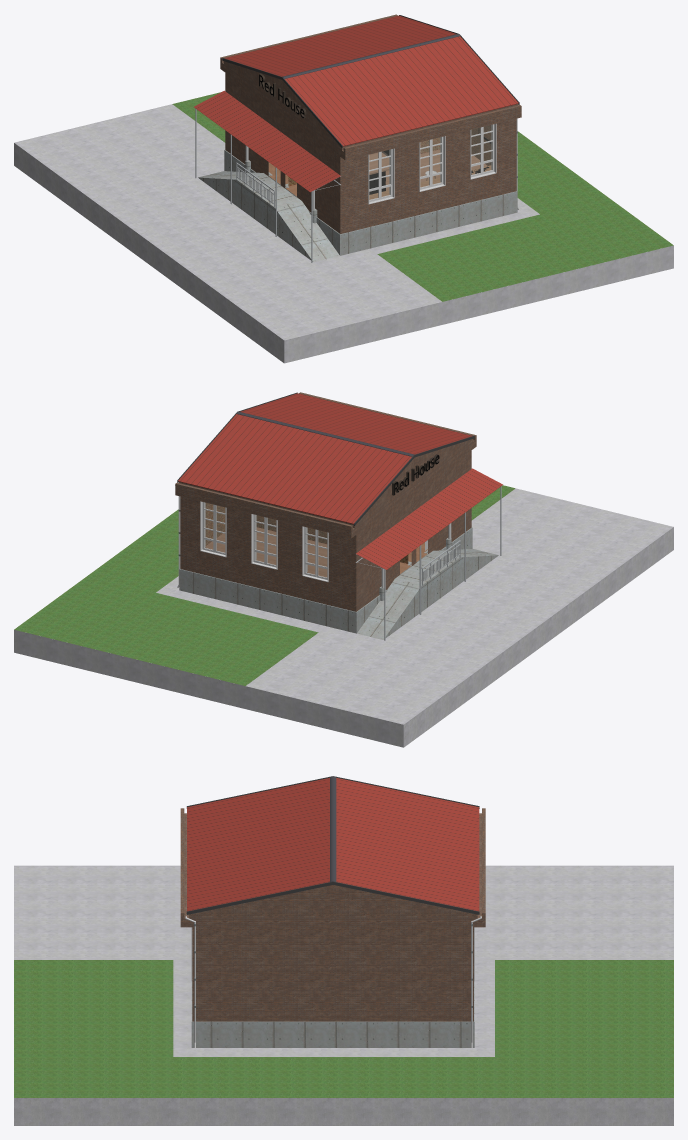
The model's file is casa.glb.
3 views of the same model, one above another, from view 1: azimuth 30°, elevation 25°; view 2: azimuth 150°, elevation 25°; view 3: azimuth 270°, elevation 25° (orthographic). The views are drawn at different scales.
Parts seen in each view (by area): view 1: Material2 (×12), Material3; view 2: Material2 (×11), Material3; view 3: Material2 (×7), Material3.
Part boxes in pixels (x1,y1,x2,y2): Material2 (×12): (14, 14, 673, 363); Material3: (172, 92, 673, 301); Material2 (×11): (14, 392, 673, 747); Material3: (14, 485, 515, 685); Material2 (×7): (14, 776, 673, 1125); Material3: (14, 960, 673, 1097).
Bounding box in the file's own units: 9.99 × 3.9 × 12.
Materials: 22 (21 with a texture image).
